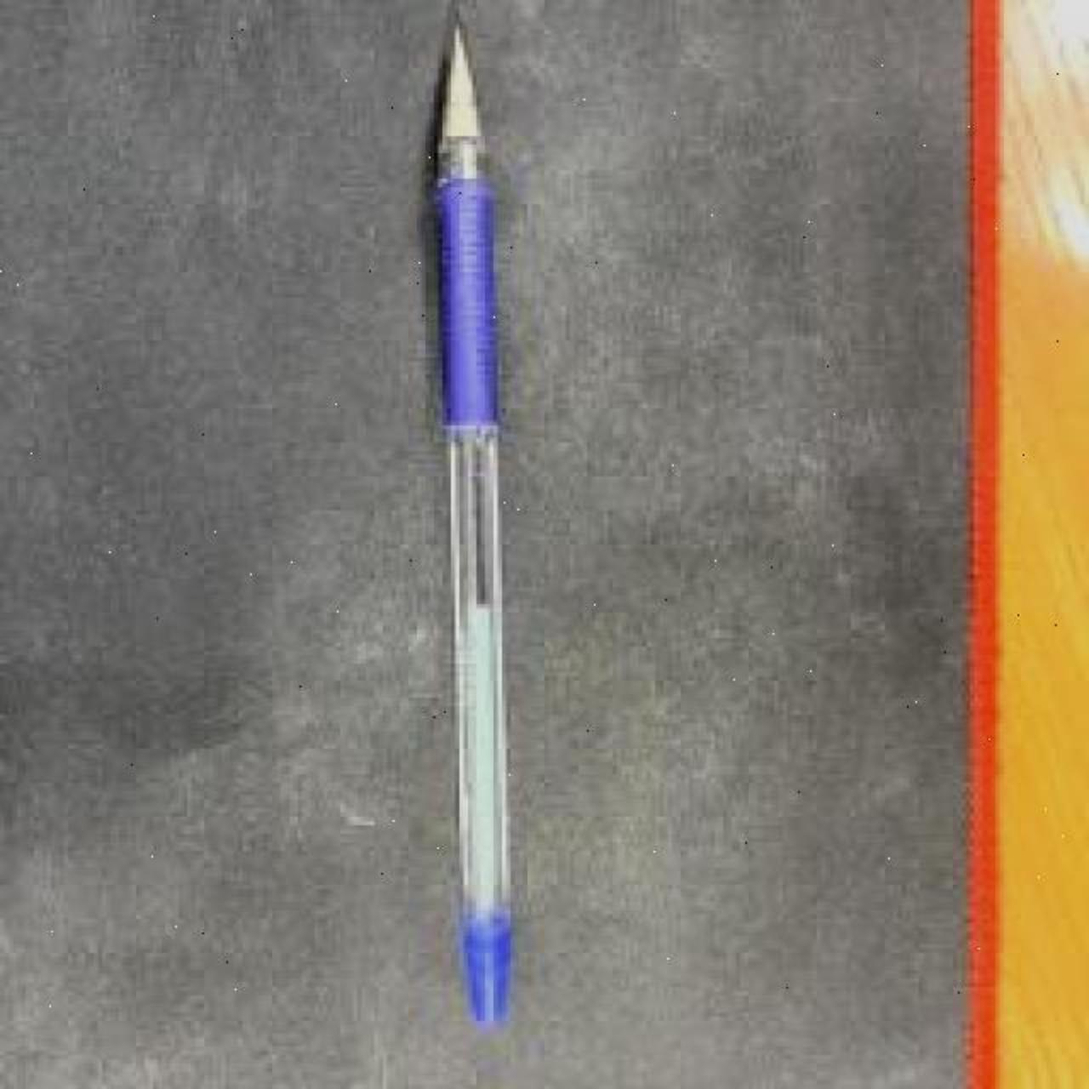pen: (430, 26, 524, 1038)
